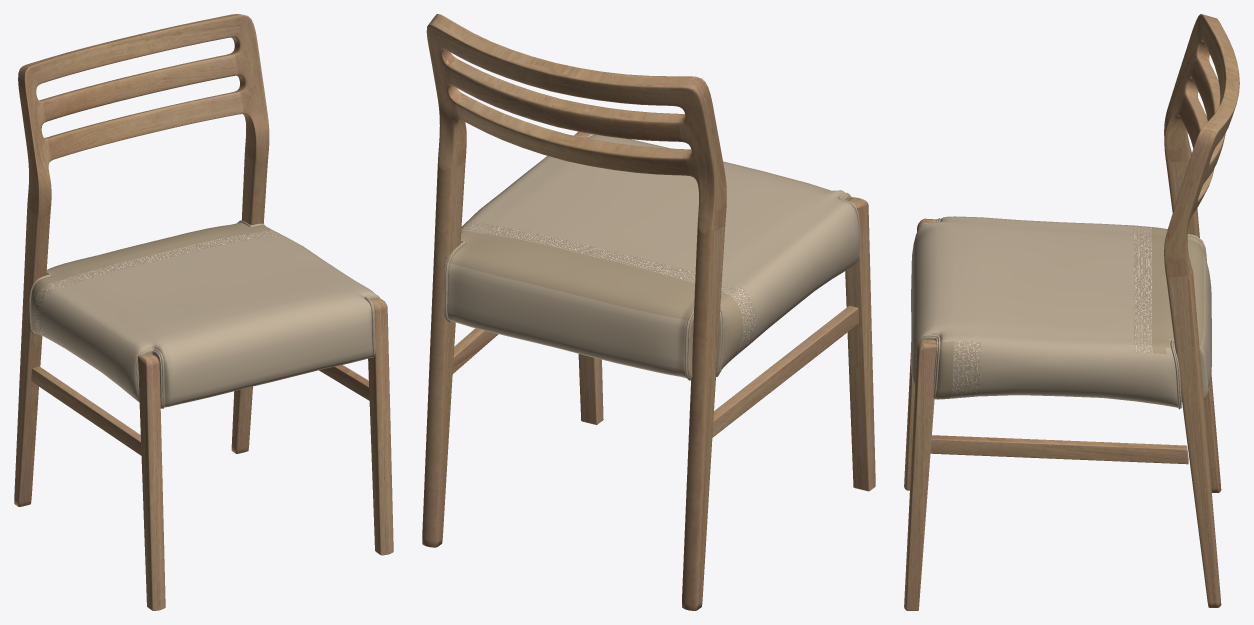
The model's file is BHID01187.glb.
3 renders of one model, left to right at view 1: azimuth 30°, elevation 25°; view 2: azimuth 150°, elevation 25°; view 3: azimuth 270°, elevation 25°, orthographic. The views are drawn at different scales.
Parts seen in each view (by area): view 1: BP_BHID01187; view 2: BP_BHID01187; view 3: BP_BHID01187.
Part boxes in pixels (x1,y1,x2,y2): BP_BHID01187: [14, 14, 393, 610]; BP_BHID01187: [422, 14, 875, 610]; BP_BHID01187: [904, 14, 1239, 610].
Size of the model in its own units: 0.4794 by 0.795 by 0.508.
2 materials, 2 textured.
